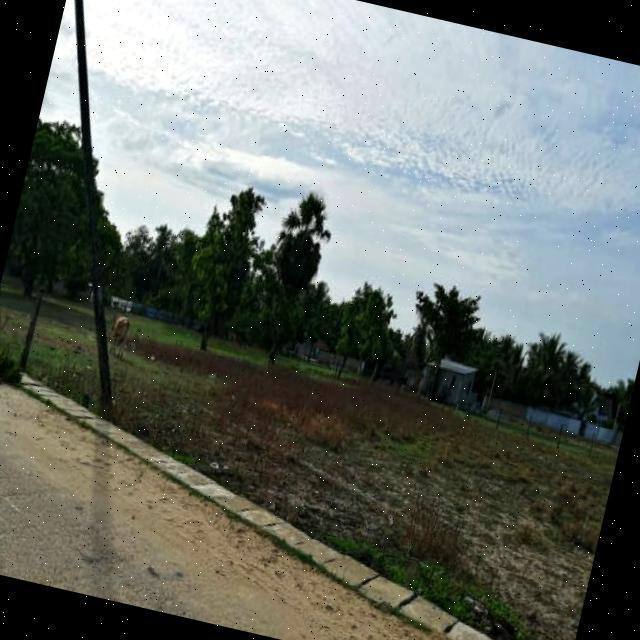Broken Pole: (72, 0, 117, 399)
